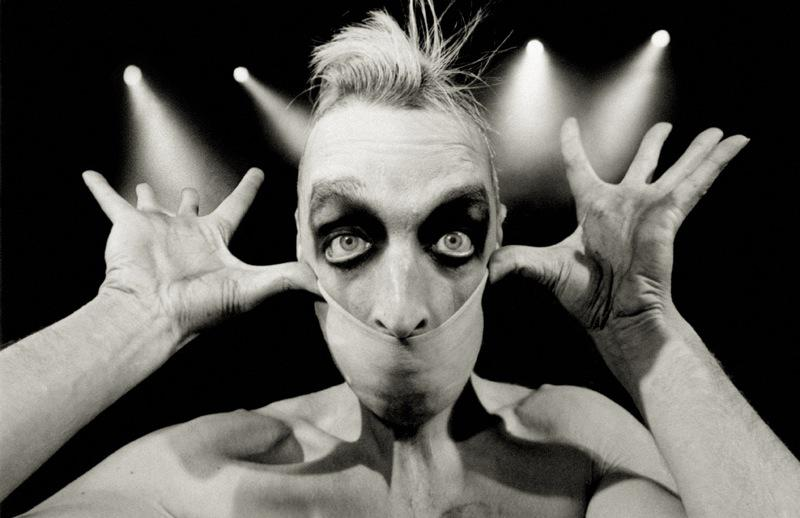WRONG: (309, 192, 492, 386)
